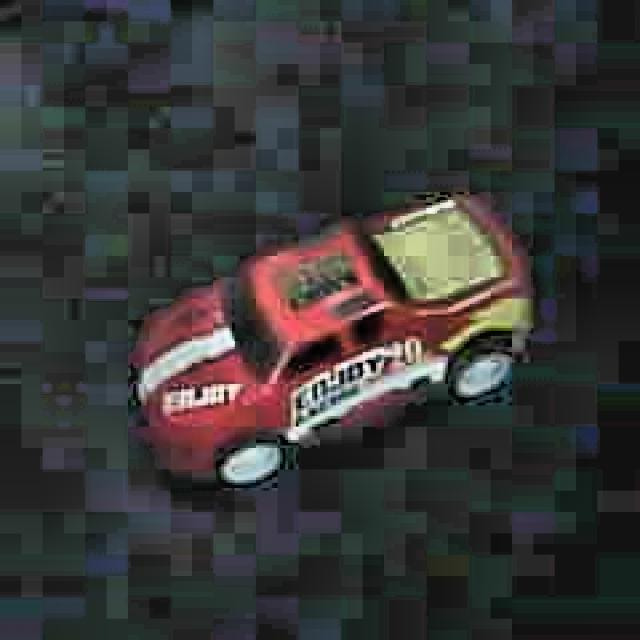car: (121, 180, 538, 495)
